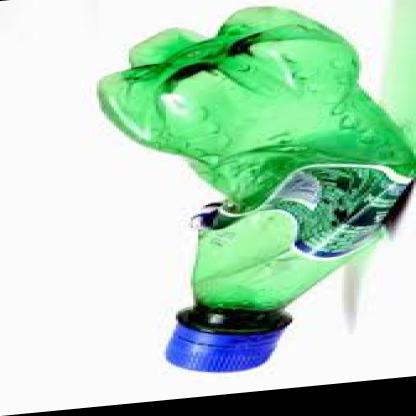Plastic: (81, 0, 416, 396)
